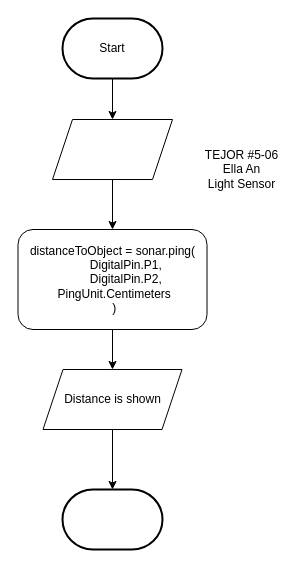
Some shapes in this 308 by 567 pixel diagram are drawn without their labels. The shapes that lost their labels are listed below. From the top down, each one's centre as x and y in pixels, then its label:
(x=112, y=149): Button A pressed
(x=112, y=519): Stop
